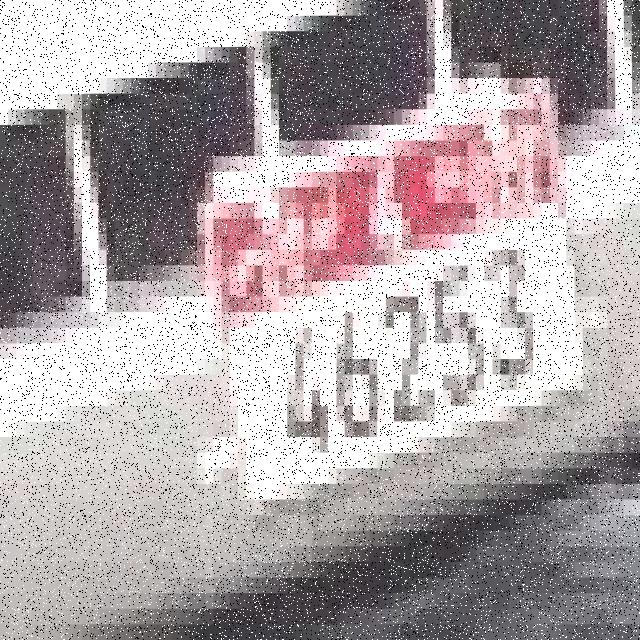licenseplate: (198, 145, 606, 486)
